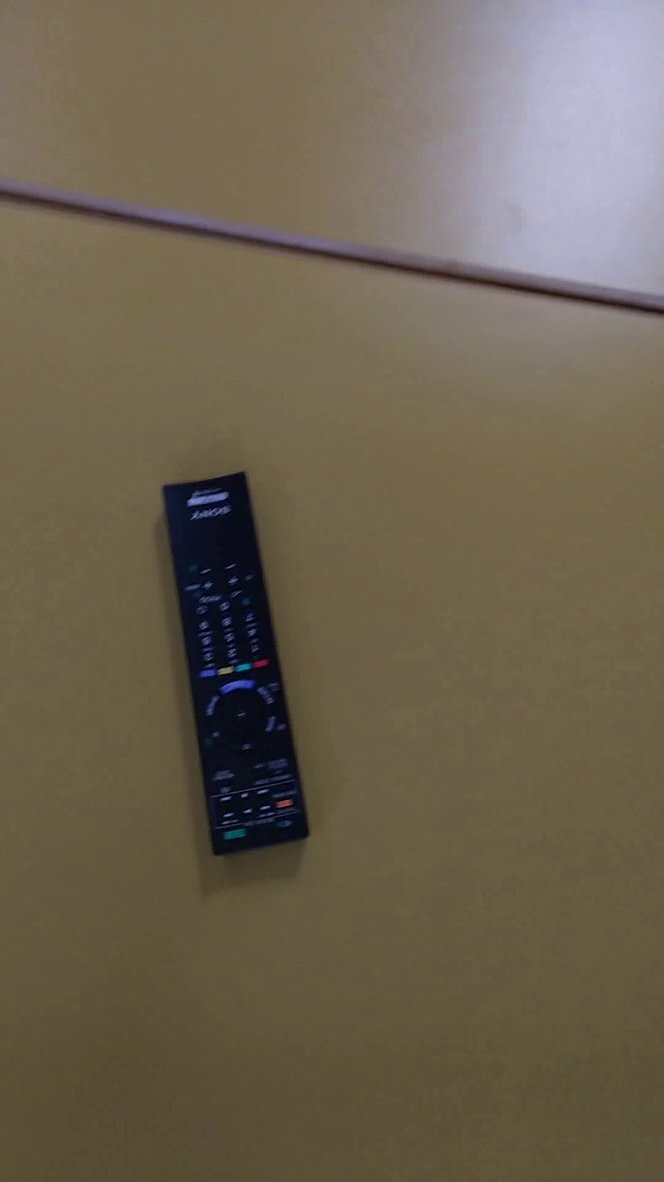remote: (151, 455, 346, 890)
